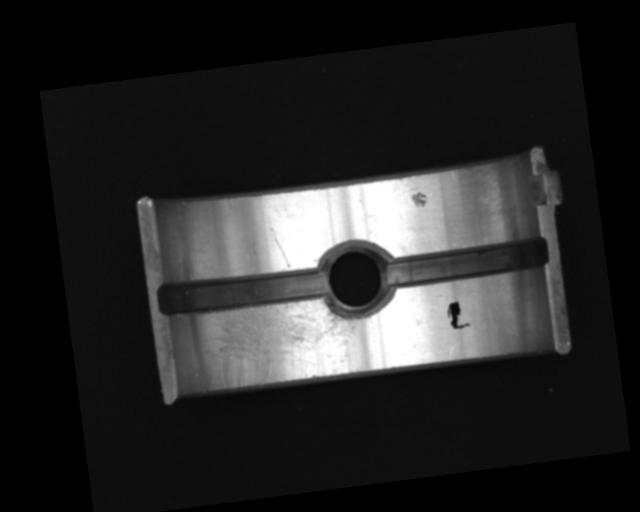blot: (445, 299, 470, 331)
bruise: (410, 190, 429, 209)
gap: (156, 261, 331, 321), (382, 236, 549, 290)
hole: (318, 238, 395, 322)
nick: (269, 226, 291, 271)
scratch: (192, 295, 364, 393)
